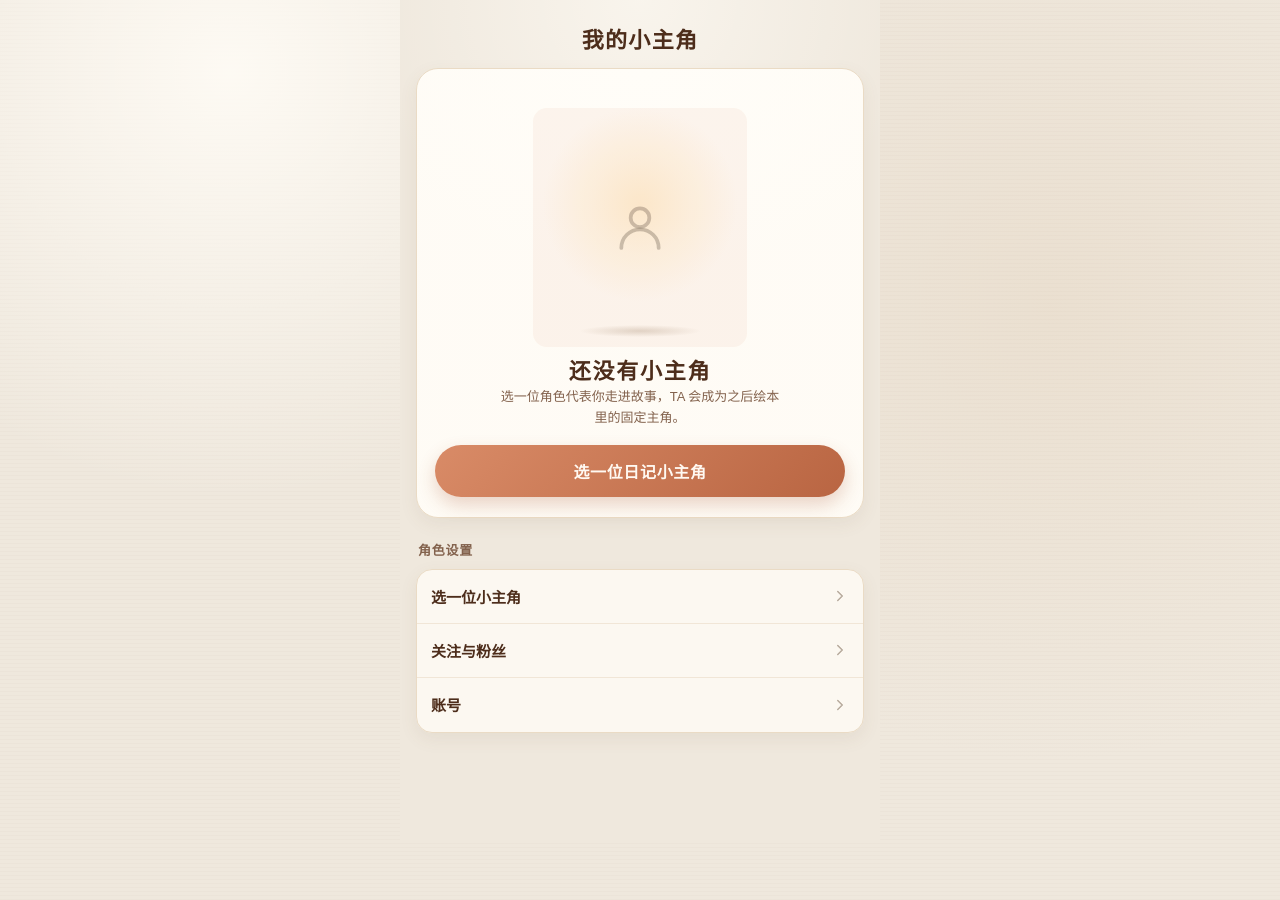
Test case: Mine · 角色创建流程 › the confirm step can go back to browse other characters
Click the button "选一位日记小主角".
click(640, 471)  # box [435,445,845,497]
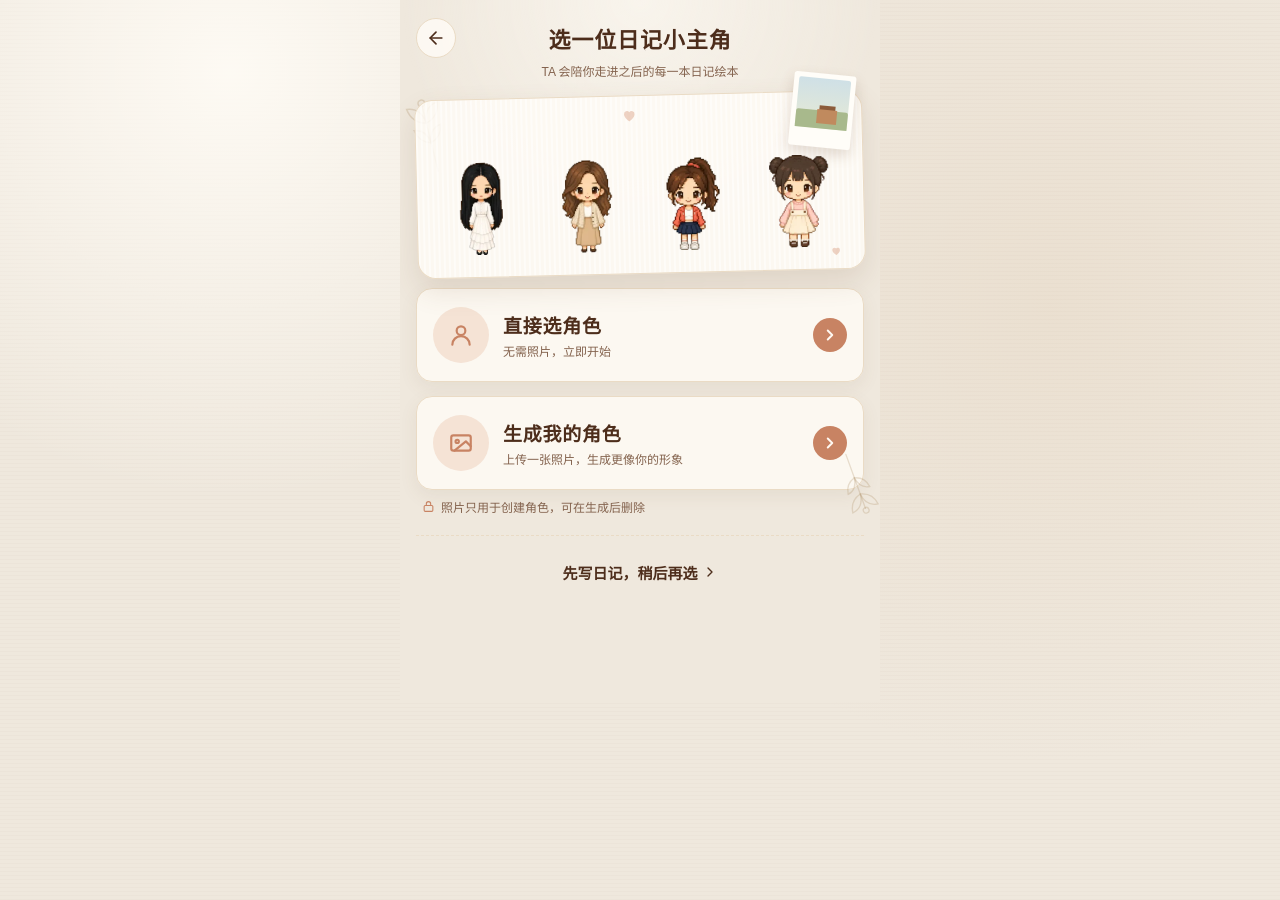
Click the button "直接选角色 无需照片，立即开始".
click(461, 335)  # box [416,288,864,382]
(page scrolled)
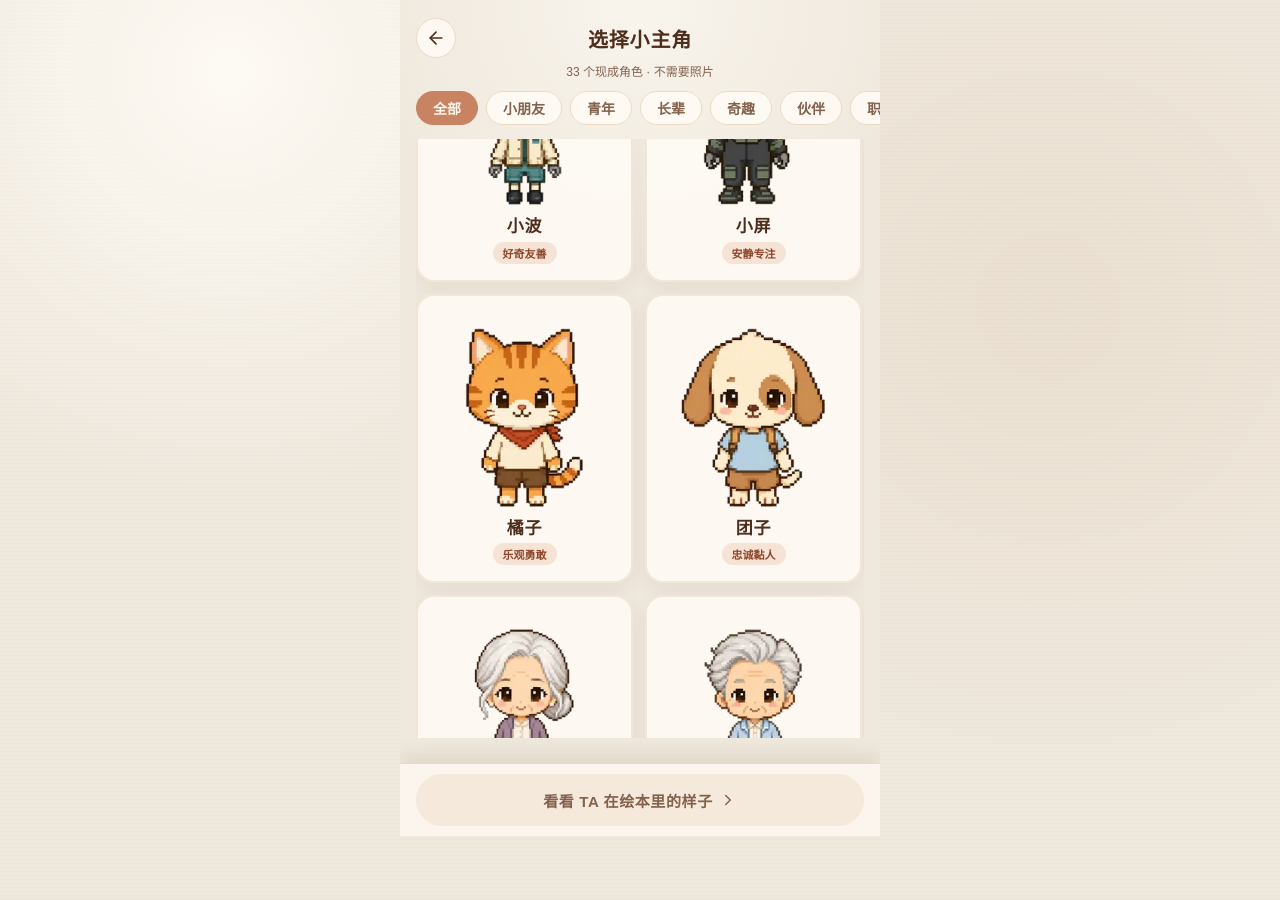
Click the button "橘子 乐观勇敢".
click(524, 438)  # box [416,294,633,583]
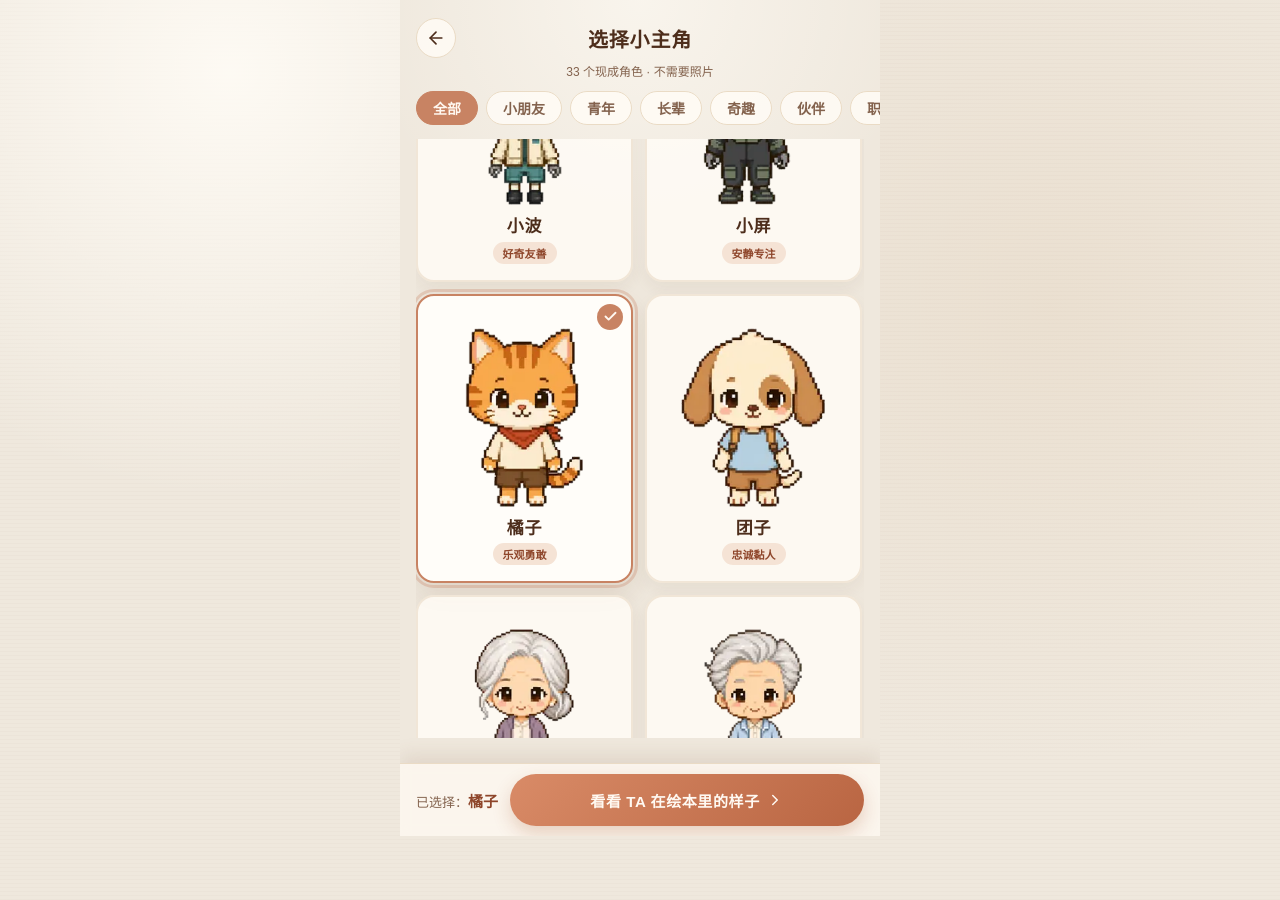
Click the button "看看 TA 在绘本里的样子".
click(687, 800)  # box [510,774,864,826]
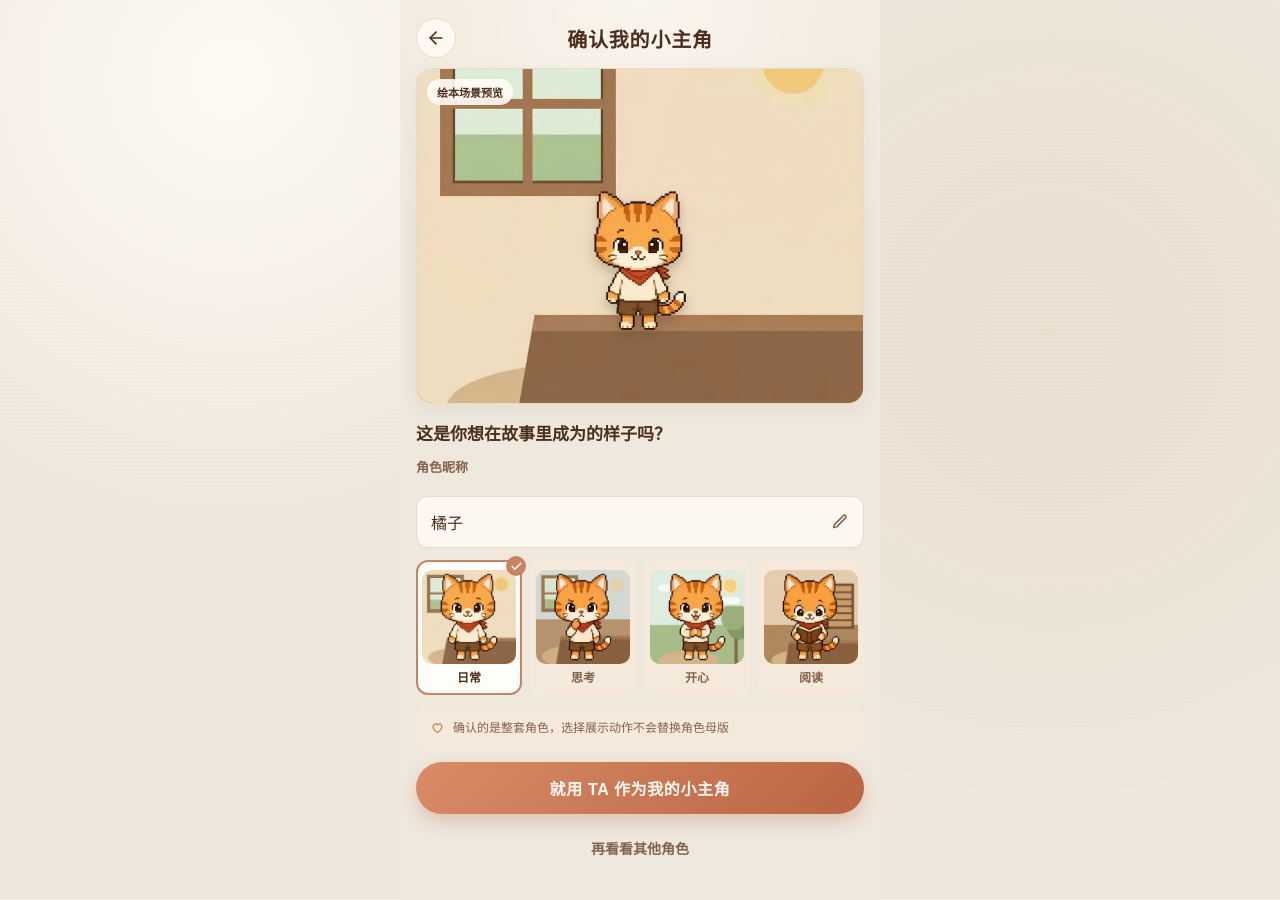
Click the button "再看看其他角色".
click(640, 848)  # box [416,826,864,870]
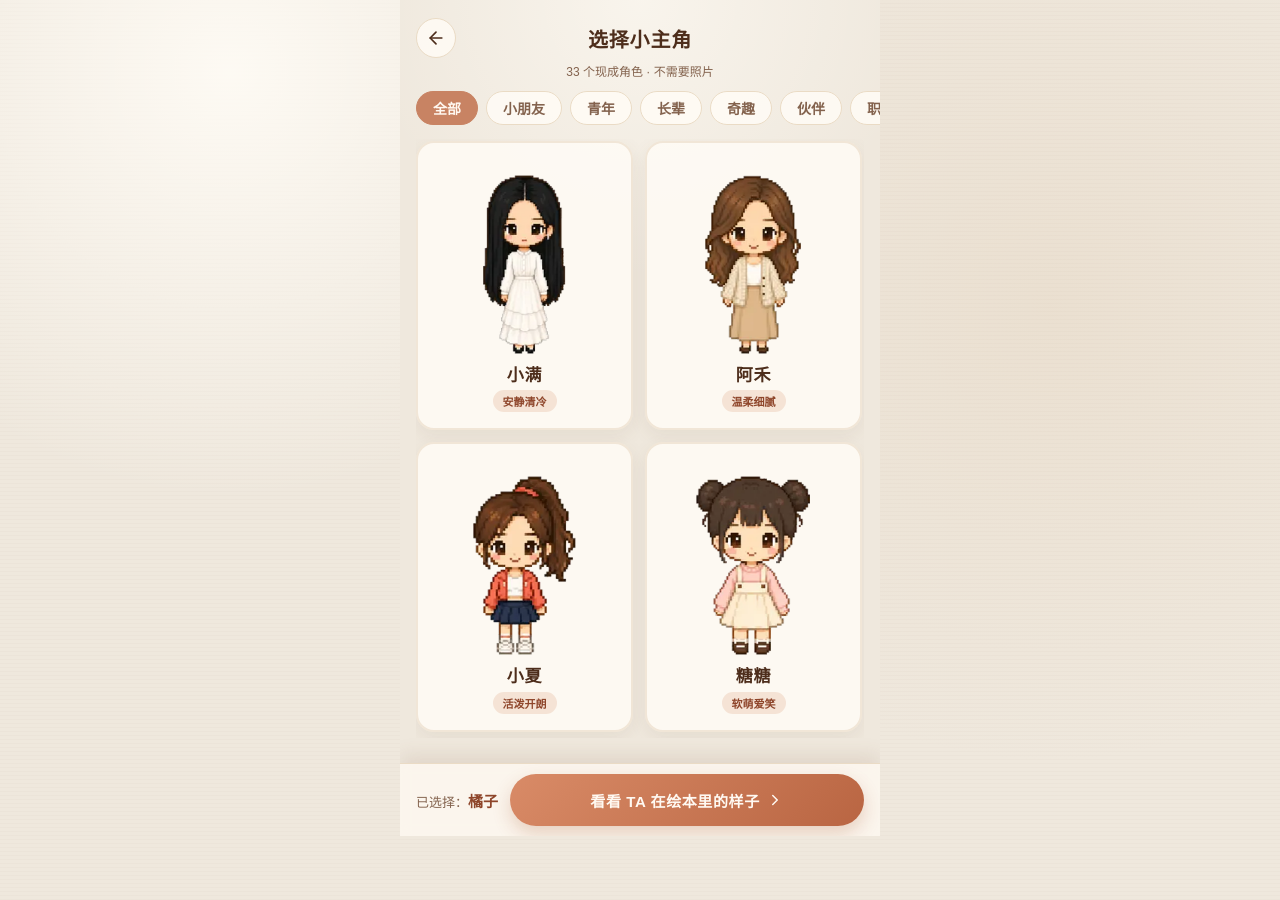
Check: the heading "选择小主角" is shown, box [588,28,692,50]
